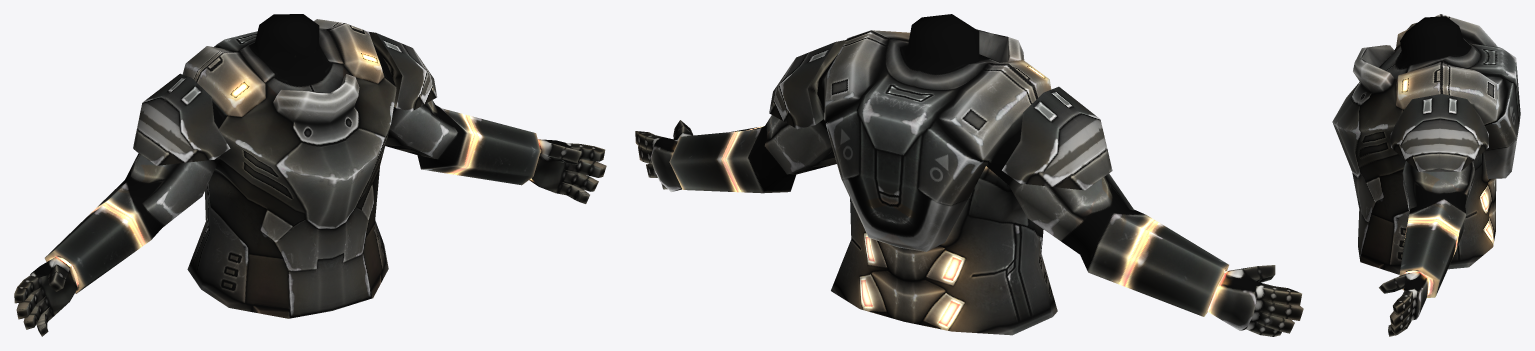
The model's file is Enemy_Soldier_Torso_2.fbx.
The picture shows the model from 3 angles, left to right: view 1: azimuth 30°, elevation 25°; view 2: azimuth 150°, elevation 25°; view 3: azimuth 270°, elevation 25°; orthographic projection. The views are drawn at different scales.
Parts seen in each view (by area): view 1: Enemy_Soldier_Torso_2; view 2: Enemy_Soldier_Torso_2; view 3: Enemy_Soldier_Torso_2.
Boxes of the visible parts, left/top/right/bottom form: Enemy_Soldier_Torso_2: left=14, top=14, right=606, bottom=336; Enemy_Soldier_Torso_2: left=635, top=14, right=1303, bottom=336; Enemy_Soldier_Torso_2: left=1332, top=14, right=1520, bottom=336.
Bounding box in the file's own units: 2.05 × 0.8593 × 0.6534.
